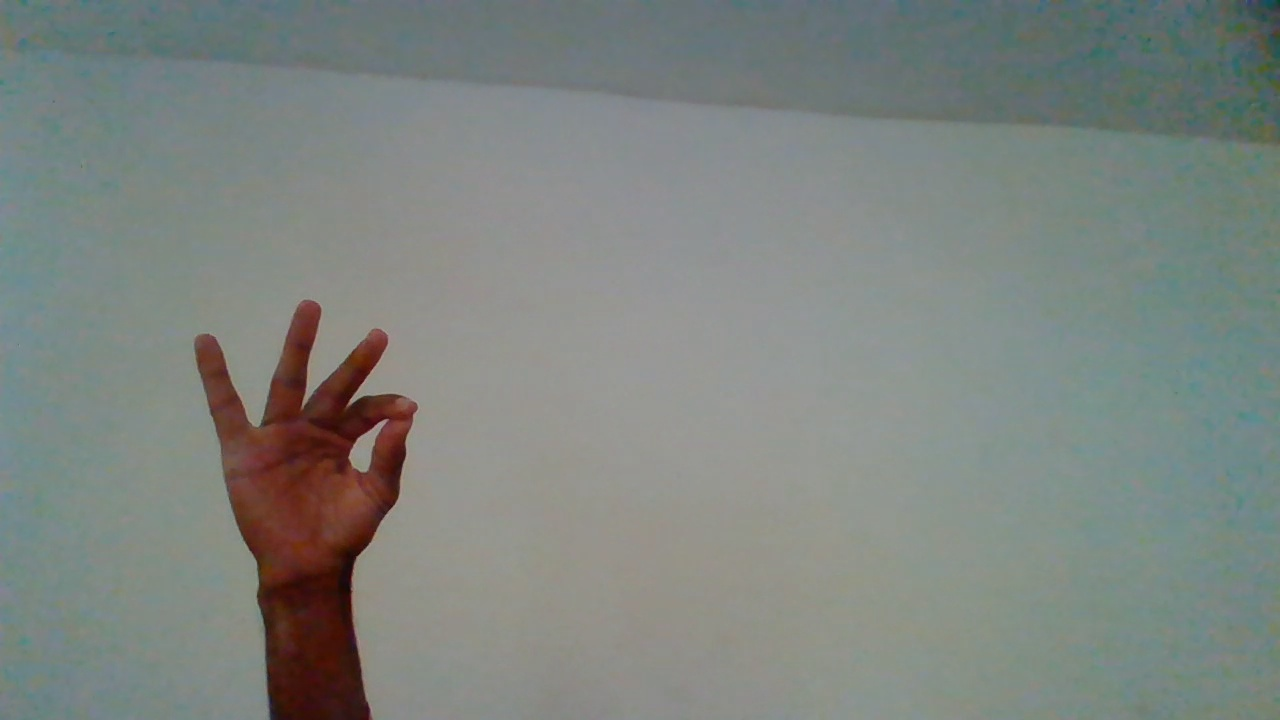le: (187, 297, 418, 700)
